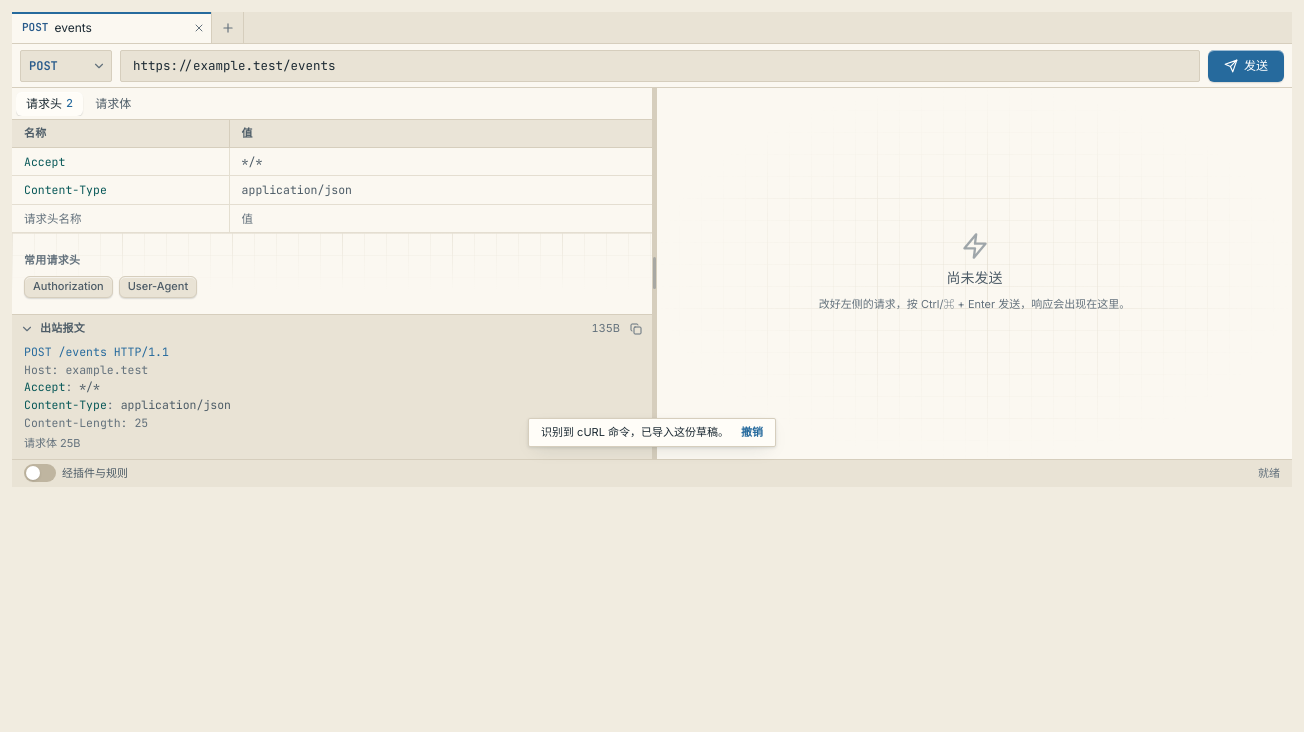
Test: 流事件早于发送返回时，通过回填显示已结束的 SSE
The width and height of the screenshot is (1304, 732).
Click the button "发送": click(1246, 66) [1208,50,1284,82]
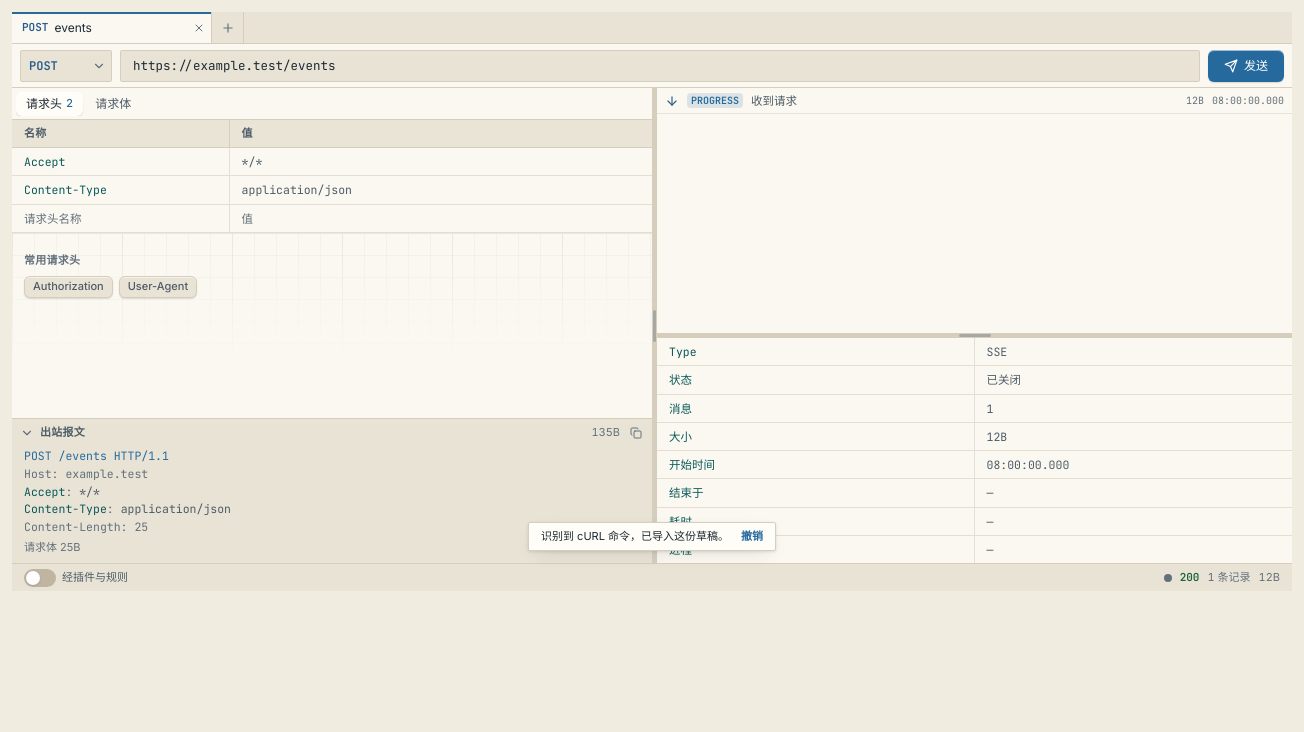
Expected: the text "PROGRESS" is shown, [687,93,743,108]
Expected: the text "1 条记录" is shown, [1207,570,1250,585]
